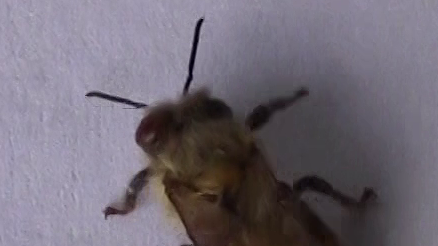Varroa destructor: (134, 108, 173, 148)
